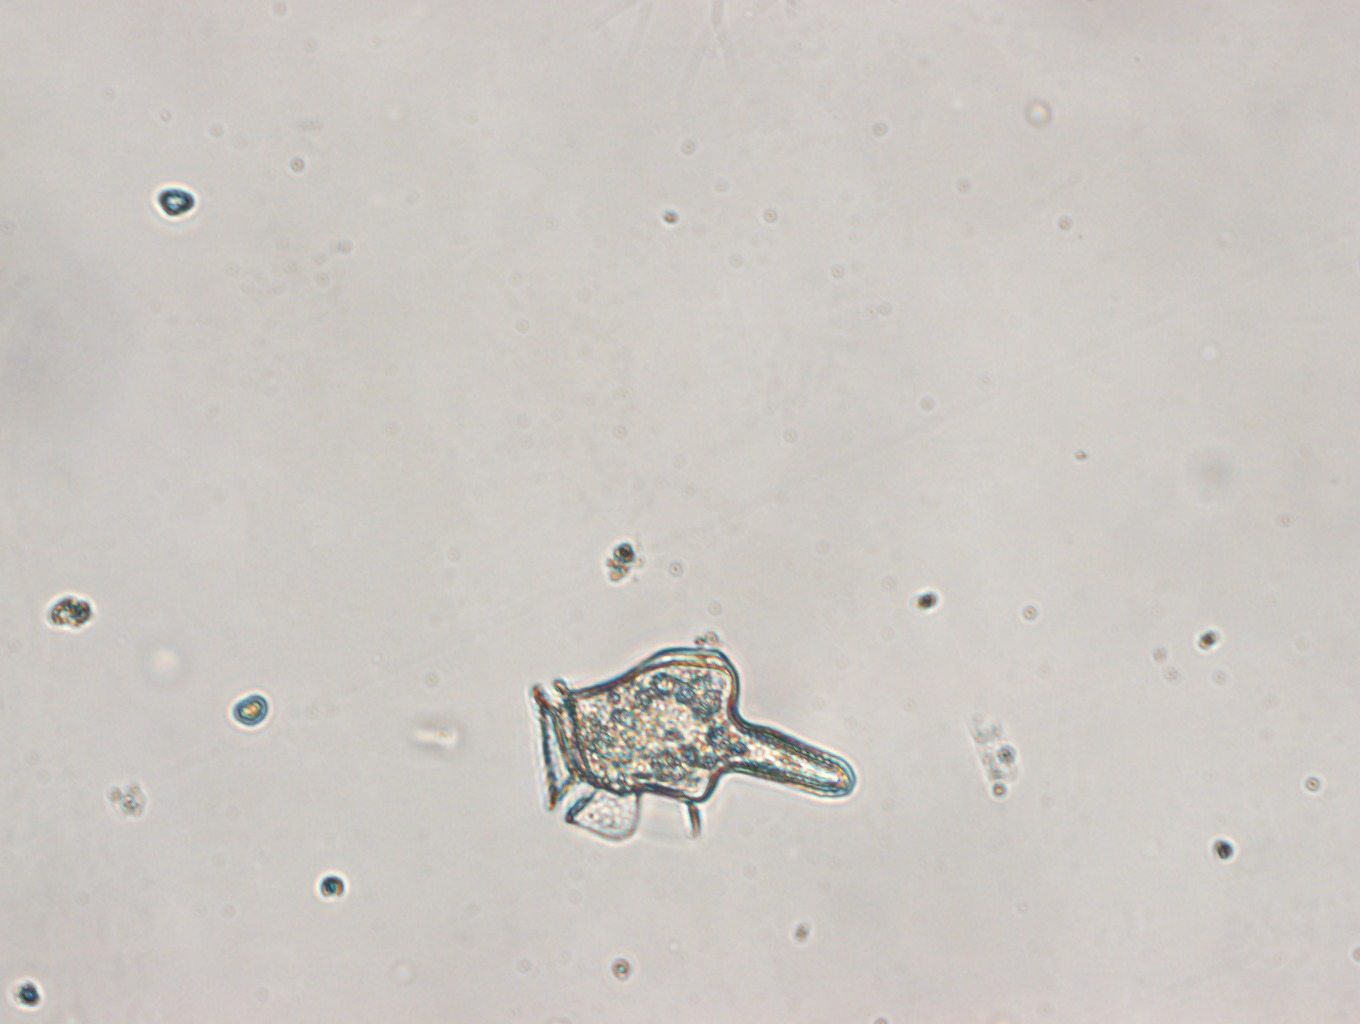dinophysis caudata: (529, 635, 867, 847)
